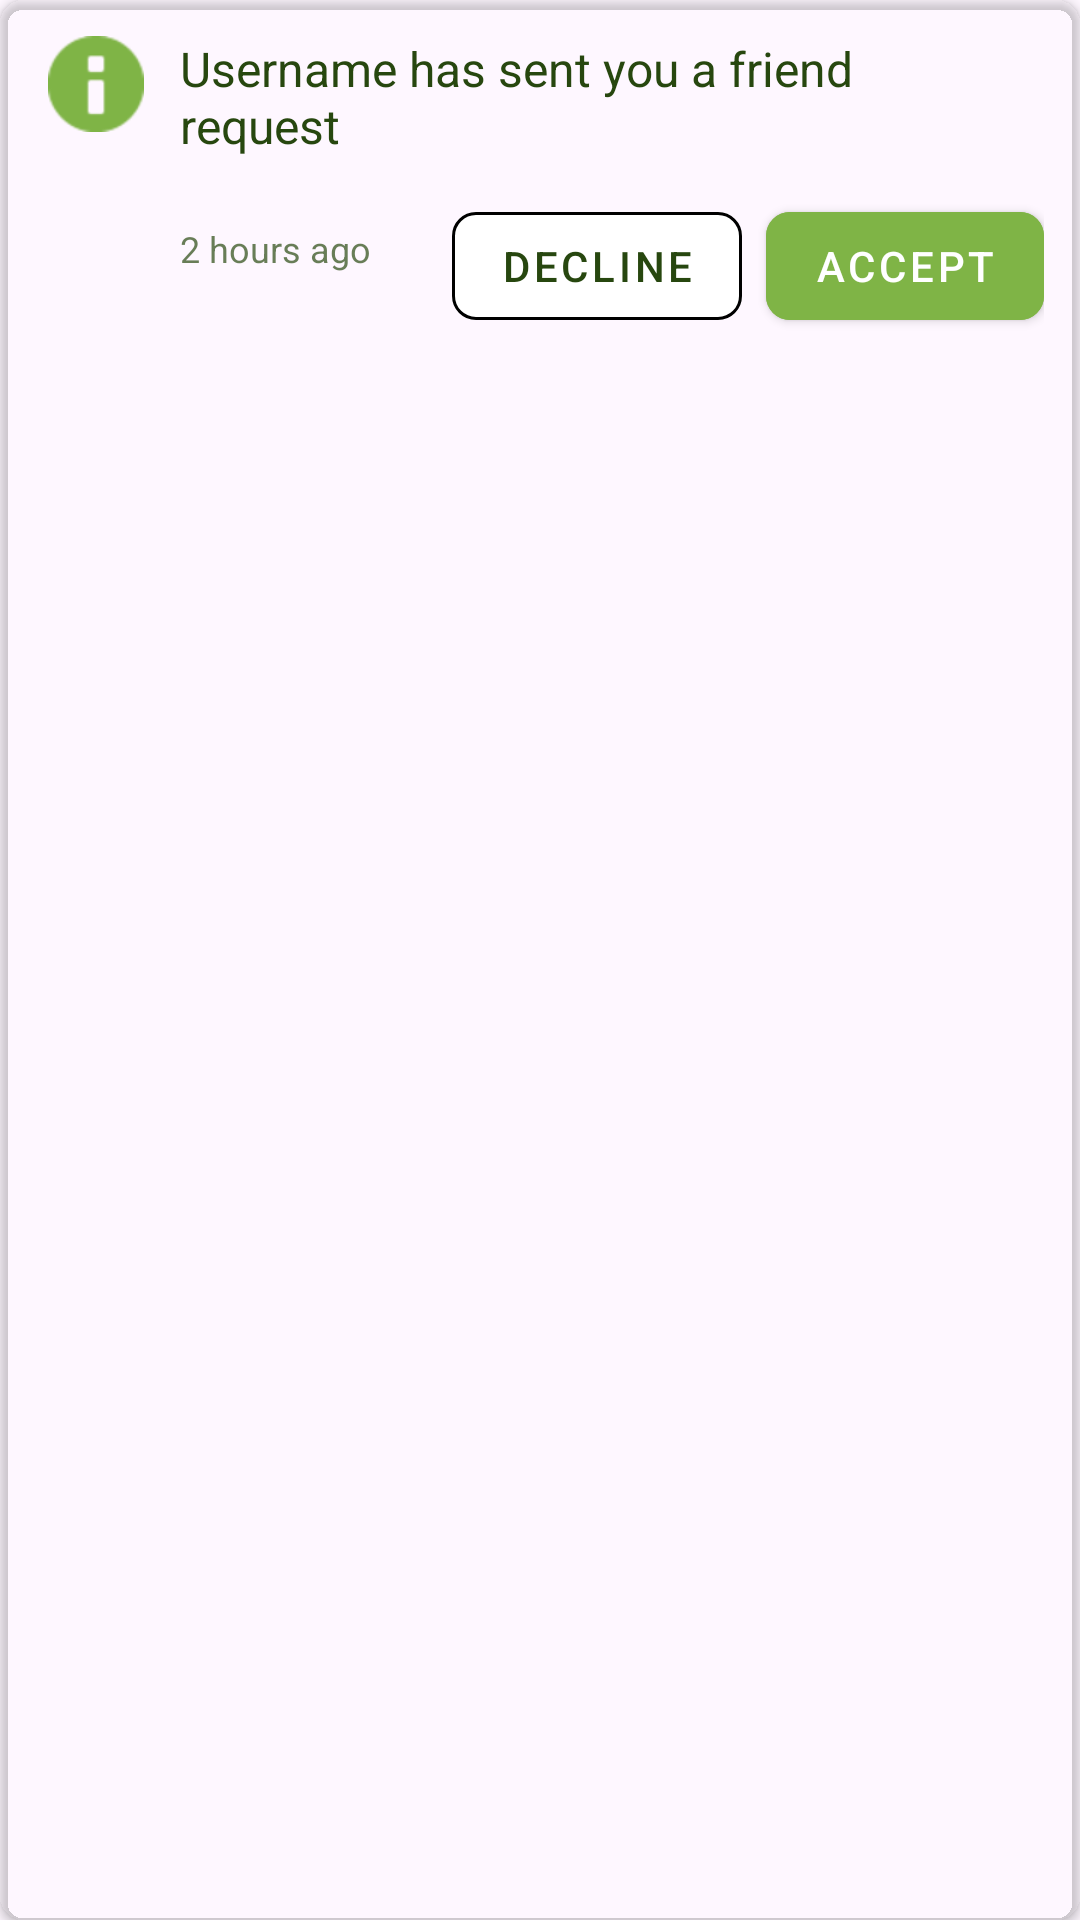

Locate icon controls on the screen. Image size 1080px×1920px, boxes as bbox=[x1, y1, x2, y2].
info: bbox=[48, 36, 144, 132]
